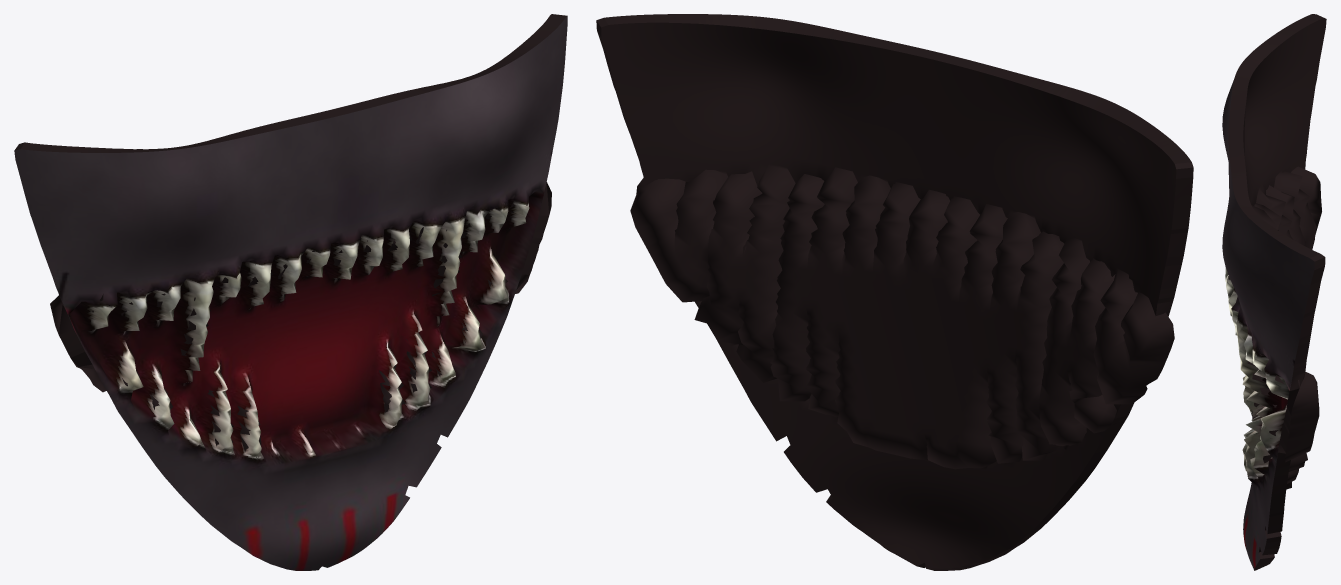
File: 牙の口_kibakuchi.glb
3 views of the same model, side by side, from view 1: azimuth 30°, elevation 25°; view 2: azimuth 150°, elevation 25°; view 3: azimuth 270°, elevation 25° (orthographic). The views are drawn at different scales.
Parts seen in each view (by area): view 1: kibakuchi; view 2: kibakuchi; view 3: kibakuchi.
Boxes of the visible parts, x1,y1,x2,y2 form: kibakuchi: (14,14,567,570); kibakuchi: (596,14,1193,570); kibakuchi: (1222,14,1326,570).
Bounding box in the file's own units: 0.1747 × 0.1404 × 0.031.
Materials: 1 (1 with a texture image).
